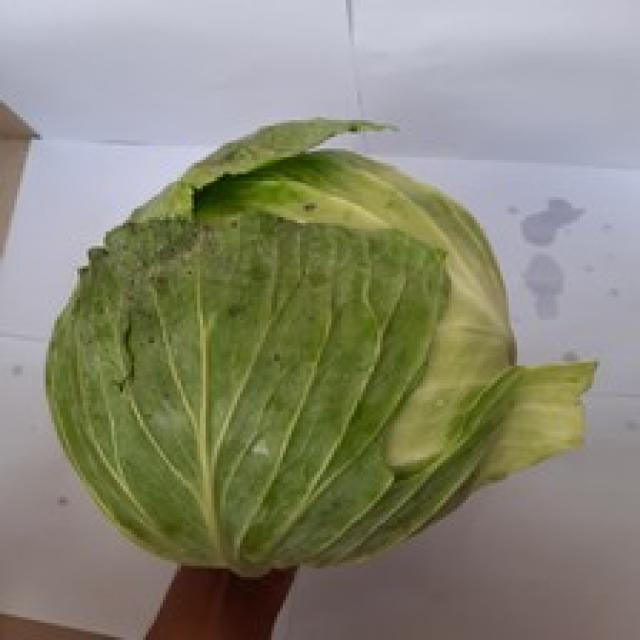Cabbage: (43, 114, 597, 580)
